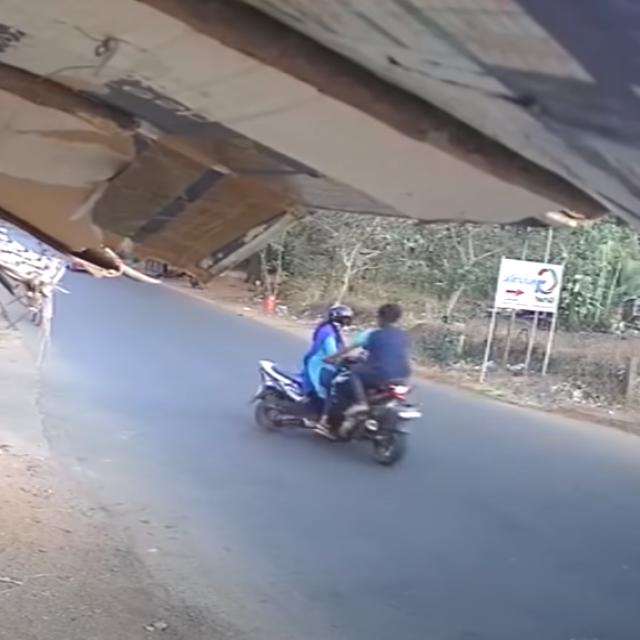accident: (256, 297, 419, 467)
